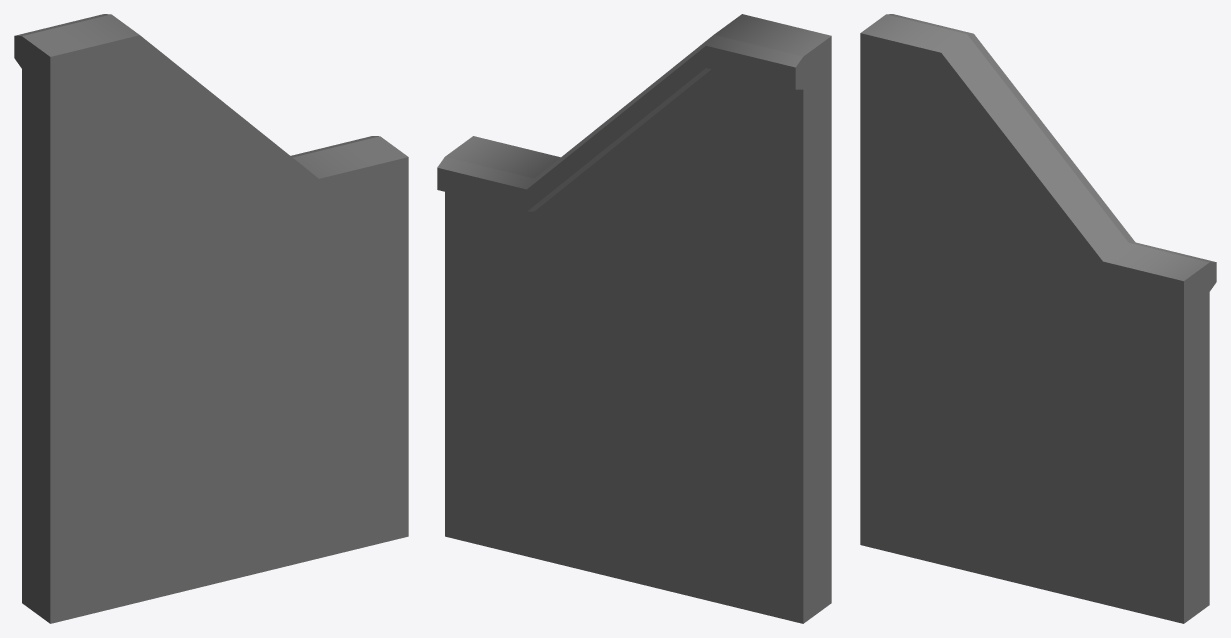
File: Stone Wall 1 U 2 R.fbx
3 views of the same model, side by side, from view 1: azimuth 30°, elevation 25°; view 2: azimuth 150°, elevation 25°; view 3: azimuth 330°, elevation 25° (orthographic). The views are drawn at different scales.
Parts seen in each view (by area): view 1: Stone_Wall_1_U_2_R; view 2: Stone_Wall_1_U_2_R; view 3: Stone_Wall_1_U_2_R.
Boxes of the visible parts, left/top/right/bottom form: Stone_Wall_1_U_2_R: left=14, top=14, right=408, bottom=623; Stone_Wall_1_U_2_R: left=437, top=14, right=831, bottom=623; Stone_Wall_1_U_2_R: left=860, top=14, right=1216, bottom=623.
Size of the model in its own units: 4 by 6.05 by 0.6983.
